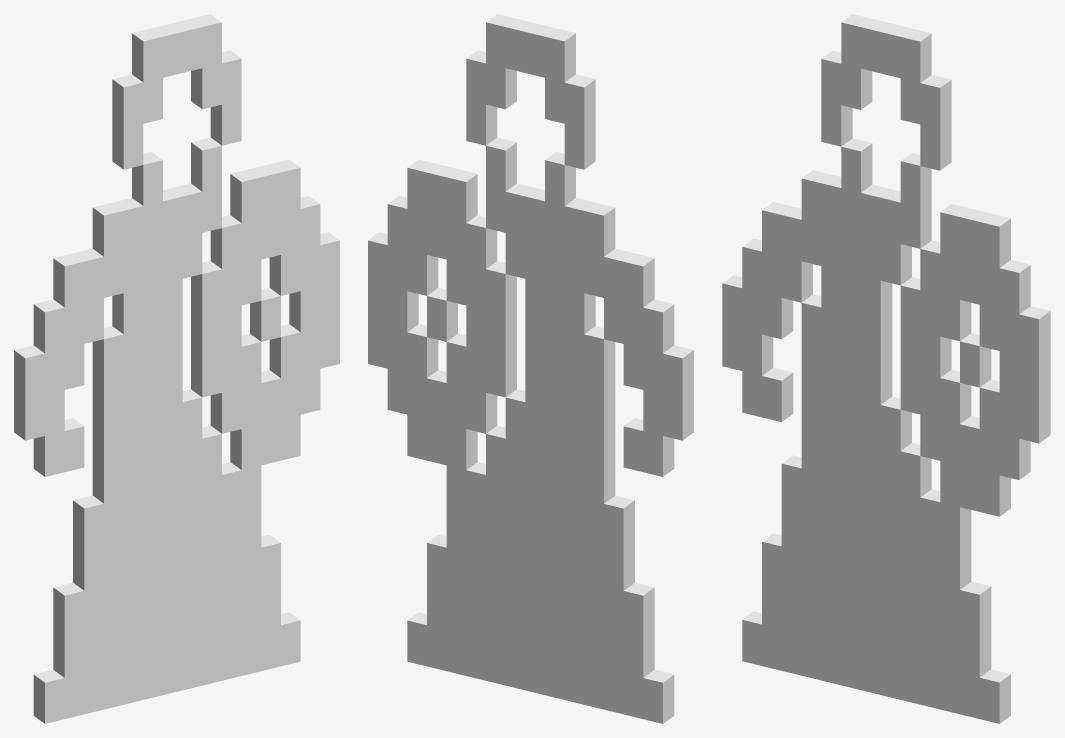
Rendered from Wraith-Shield-White.vox.obj.
3 renders of one model, left to right at view 1: azimuth 30°, elevation 25°; view 2: azimuth 150°, elevation 25°; view 3: azimuth 330°, elevation 25°, orthographic.
Bounding box in the file's own units: 1.6 × 3.2 × 0.1.
Materials: 1 (1 with a texture image).
